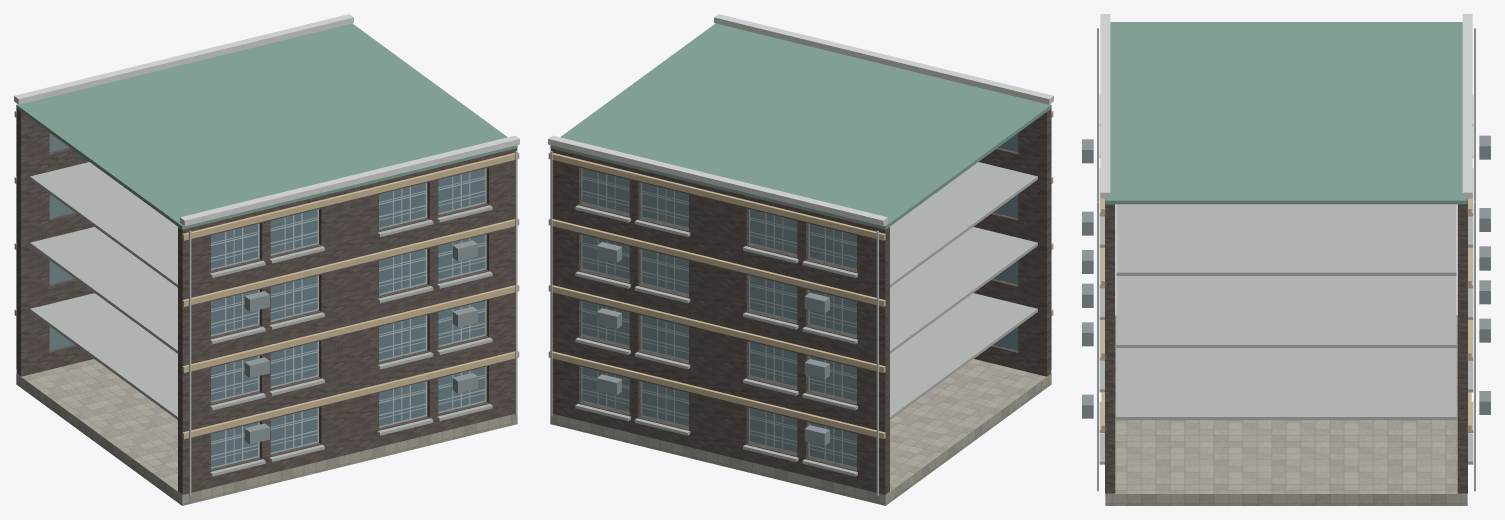
3 renders of one model, left to right at view 1: azimuth 30°, elevation 25°; view 2: azimuth 150°, elevation 25°; view 3: azimuth 270°, elevation 25°, orthographic. The views are drawn at different scales.
Parts seen in each view (by area): view 1: connector__brick, connector__roof, connector__slab, connector__glass, connector__stone, connector__band, connector__frame, connector__cap, connector__sill, connector__metalroof, connector__steel, connector__sideglass; view 2: connector__brick, connector__roof, connector__slab, connector__sideglass, connector__stone, connector__band, connector__frame, connector__cap, connector__sill, connector__metalroof, connector__steel, connector__glass; view 3: connector__slab, connector__roof, connector__stone, connector__brick, connector__cap, connector__metalroof, connector__sill, connector__steel, connector__band.
Boxes of the visible parts, x1,y1,x2,y2 form: connector__brick: (16, 109, 517, 494); connector__roof: (16, 23, 517, 229); connector__slab: (30, 162, 177, 419); connector__glass: (211, 168, 485, 467); connector__stone: (16, 359, 517, 505); connector__band: (14, 110, 519, 439); connector__frame: (211, 168, 486, 468); connector__cap: (14, 14, 519, 226); connector__sill: (210, 205, 492, 476); connector__metalroof: (244, 240, 477, 444); connector__steel: (16, 108, 517, 496); connector__sideglass: (49, 133, 74, 350); connector__brick: (550, 109, 1051, 494); connector__roof: (550, 23, 1051, 229); connector__slab: (890, 162, 1037, 419); connector__sideglass: (582, 168, 856, 467); connector__stone: (550, 359, 1051, 505); connector__band: (548, 110, 1053, 439); connector__frame: (581, 168, 856, 468); connector__cap: (548, 14, 1053, 226); connector__sill: (575, 205, 857, 476); connector__metalroof: (596, 242, 829, 445); connector__steel: (550, 108, 1051, 496); connector__glass: (993, 133, 1018, 350); connector__slab: (1116, 204, 1456, 420); connector__roof: (1105, 22, 1467, 204); connector__stone: (1105, 315, 1467, 505); connector__brick: (1105, 199, 1467, 493); connector__cap: (1100, 14, 1472, 198); connector__metalroof: (1082, 135, 1490, 418); connector__sill: (1099, 95, 1473, 464); connector__steel: (1097, 28, 1475, 491); connector__band: (1101, 198, 1471, 431).
Bounding box in the file's own units: 17.5 × 14.31 × 16.92.
Materials: 12 (2 with a texture image).
